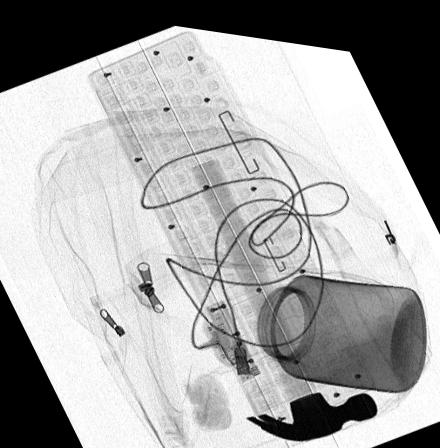Hammer: (191, 150, 378, 433)
